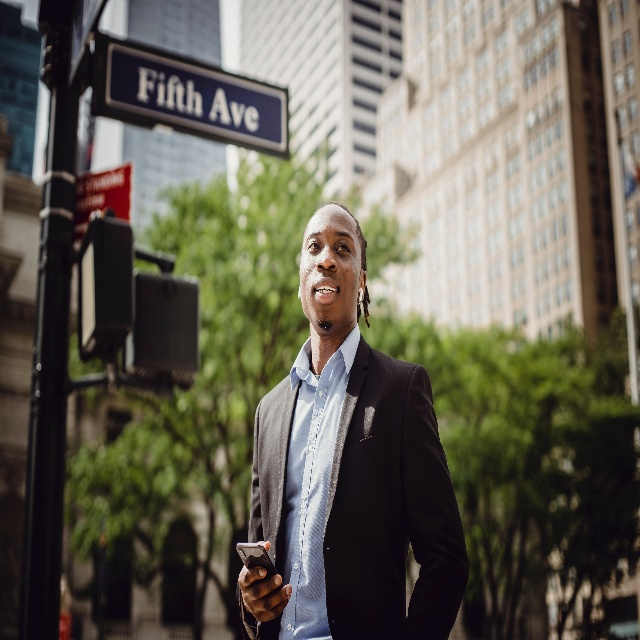Sin_guantes: (237, 541, 292, 623)
